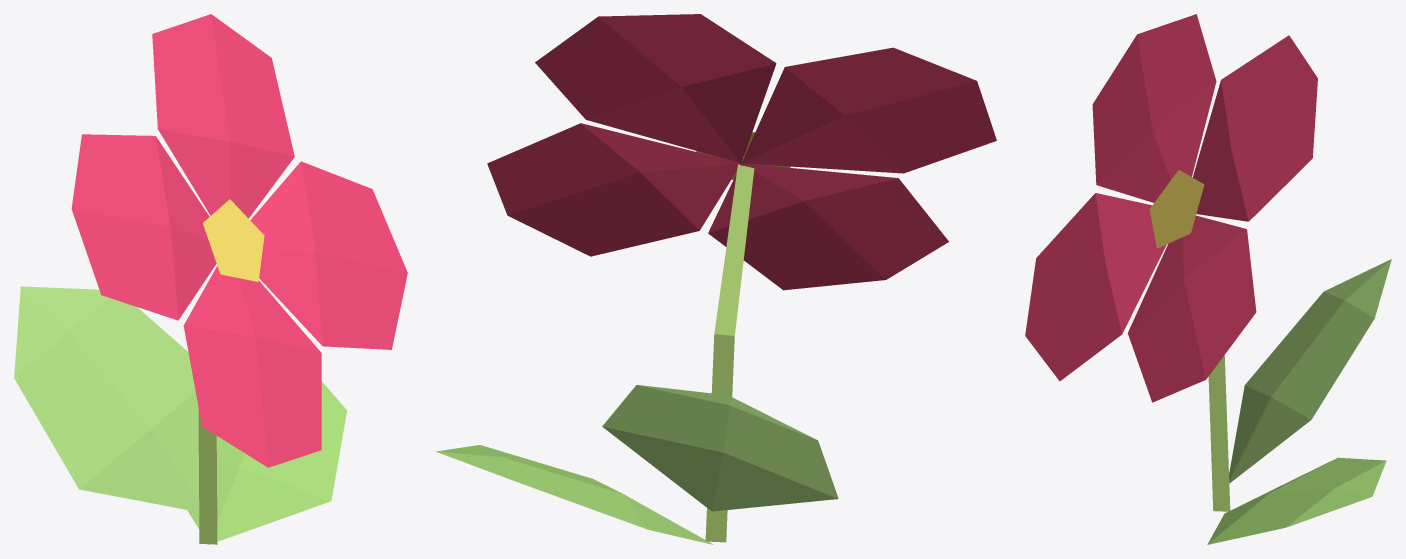
The model's file is Flower_c_TwoS_16.fbx.
The picture shows the model from 3 angles, left to right: view 1: azimuth 30°, elevation 25°; view 2: azimuth 150°, elevation 25°; view 3: azimuth 270°, elevation 25°; orthographic projection. The views are drawn at different scales.
Parts seen in each view (by area): view 1: Flower_c_TwoS_16; view 2: Flower_c_TwoS_16; view 3: Flower_c_TwoS_16.
Boxes of the visible parts, x1,y1,x2,y2 form: Flower_c_TwoS_16: (14,14,407,544); Flower_c_TwoS_16: (436,14,996,544); Flower_c_TwoS_16: (1025,14,1391,544).
Size of the model in its own units: 28.78 by 36.33 by 25.79.
